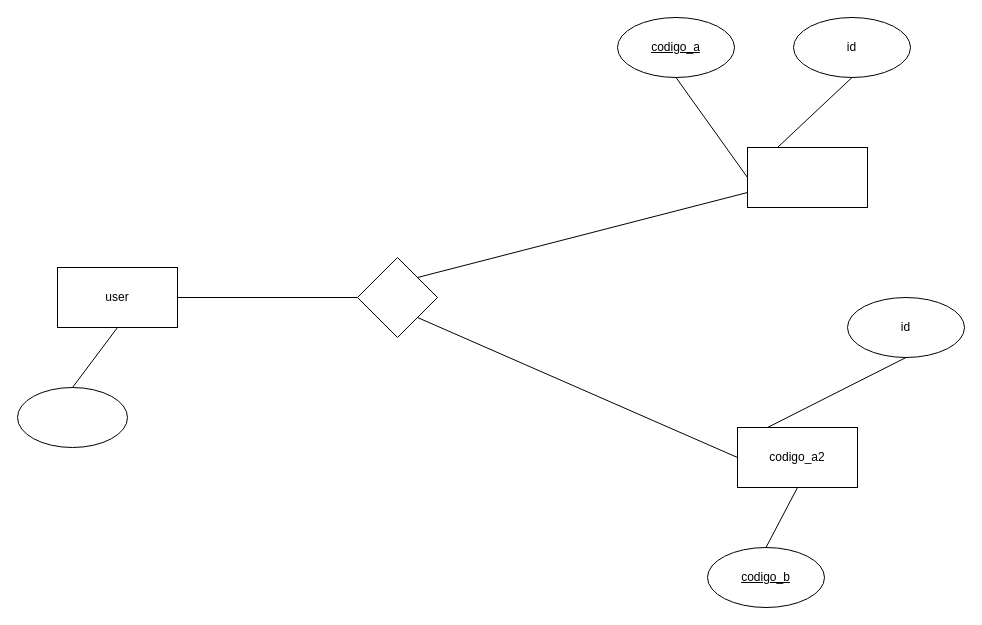
The diagram is 982 pixels wide and 625 high, and some of its shapes have lost their labels. The shapes that lost their labels are listed below. From the top down, each one's centre as x and y in pixels, then its label:
At pixel 807 177: "codigo_a1".
At pixel 397 297: "Vericar".
At pixel 72 417: "dni".
